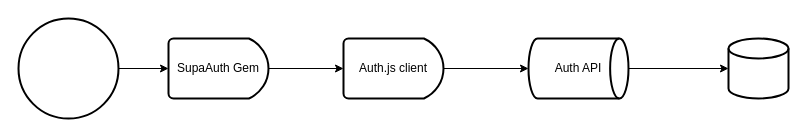
Image size: 806x136. Some labels were removed from this diagram. The shapes that lost their labels are listed below. From the top down, each one's centre as x and y in pixels, then its label:
the point at 68,68: Rails App
the point at 758,68: PG d/b
